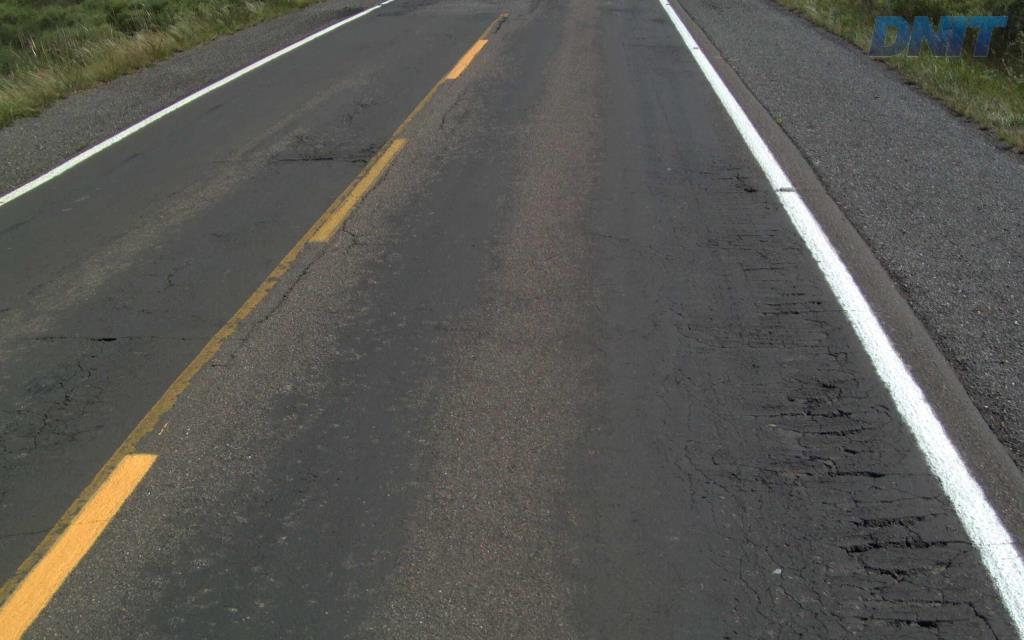crack: (838, 529, 958, 584), (807, 455, 885, 478), (753, 466, 802, 500), (803, 397, 852, 423), (887, 612, 953, 631), (849, 515, 925, 531)
